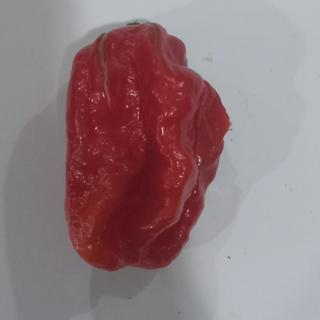Grade-A: (59, 17, 234, 273)
